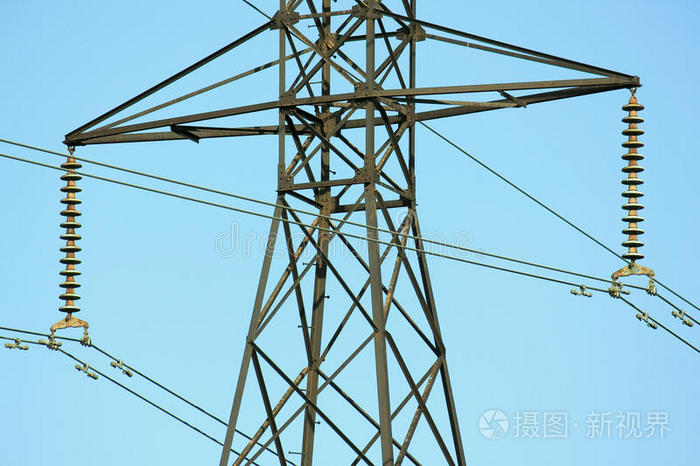insulator: (619, 103, 647, 262), (59, 160, 83, 314)
